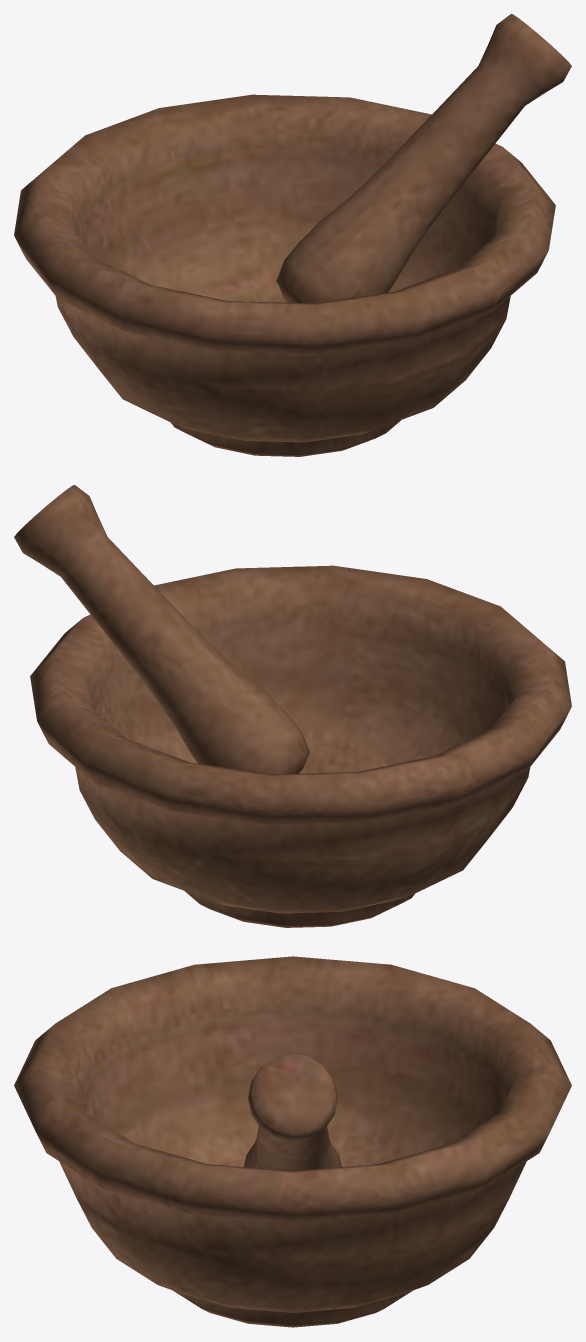
Rendered from mortar.gltf.
The picture shows the model from 3 angles, top to bottom: view 1: azimuth 30°, elevation 25°; view 2: azimuth 150°, elevation 25°; view 3: azimuth 270°, elevation 25°; orthographic projection. The views are drawn at different scales.
Parts seen in each view (by area): view 1: Pottery_Mortar; view 2: Pottery_Mortar; view 3: Pottery_Mortar.
Part boxes in pixels (box(x1,y1,x2,y2)): Pottery_Mortar: box(14, 14, 571, 456); Pottery_Mortar: box(14, 485, 571, 927); Pottery_Mortar: box(14, 956, 571, 1327).
Bounding box in the file's own units: 0.3307 × 0.2044 × 0.3033.
1 material, 1 textured.
